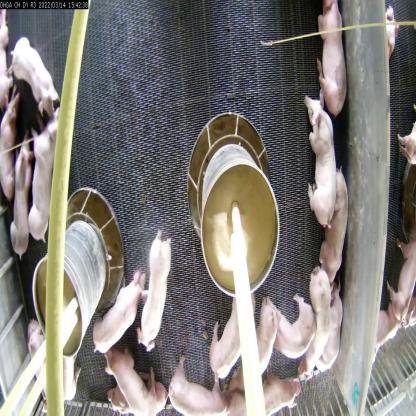Pig: (27, 106, 72, 260), (82, 261, 148, 348), (13, 37, 66, 134), (132, 220, 171, 346), (107, 339, 170, 416), (231, 298, 279, 394), (301, 88, 333, 227), (267, 286, 315, 364), (168, 359, 231, 415), (314, 0, 342, 123), (319, 180, 351, 286), (8, 137, 38, 249), (228, 372, 300, 415), (306, 264, 331, 385), (208, 293, 241, 381), (0, 98, 22, 220), (321, 288, 344, 385)
